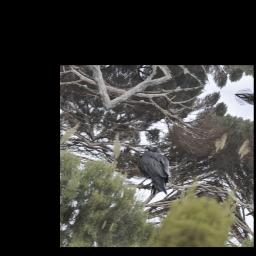Crow: (125, 143, 185, 201)
